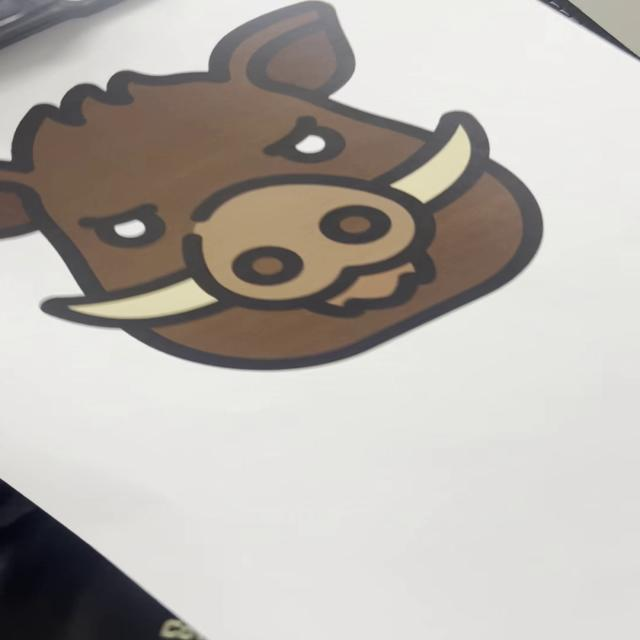animal: (1, 1, 542, 375)
